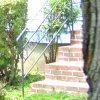stairs: (27, 29, 88, 95)
